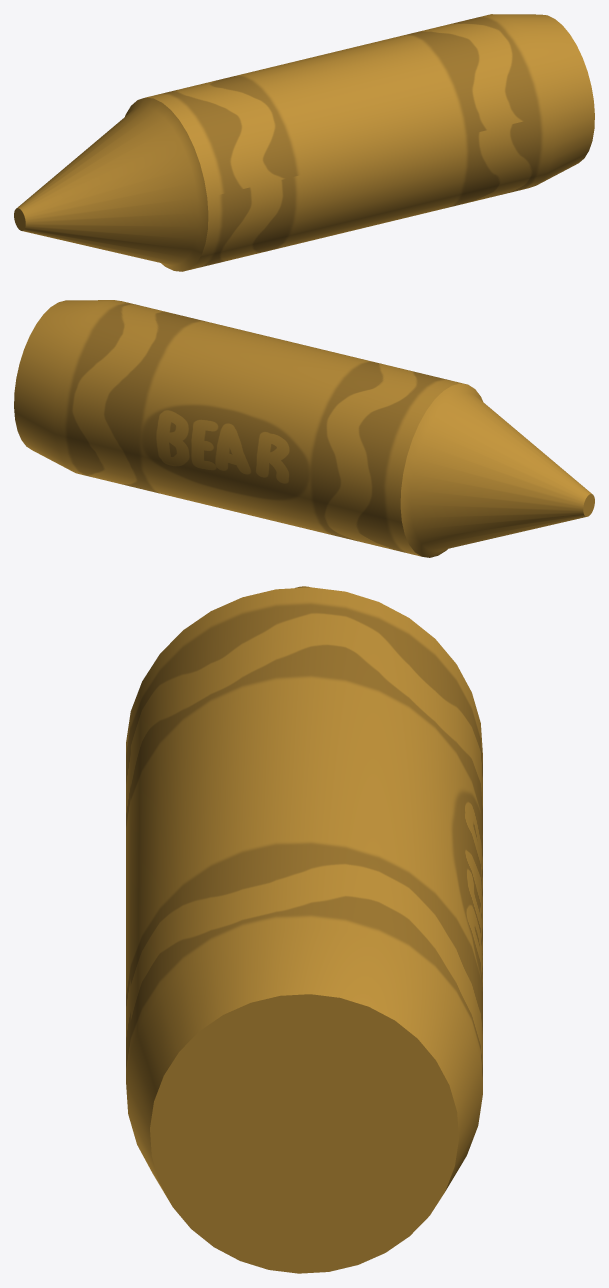
The model's file is crayon.fbx.
The picture shows the model from 3 angles, top to bottom: view 1: azimuth 30°, elevation 25°; view 2: azimuth 150°, elevation 25°; view 3: azimuth 270°, elevation 25°; orthographic projection. The views are drawn at different scales.
Visible parts, largest first — view 1: Cylinder; view 2: Cylinder; view 3: Cylinder.
Part boxes in pixels (box(x1,y1,x2,y2)): Cylinder: box(14, 14, 594, 271); Cylinder: box(14, 300, 594, 557); Cylinder: box(126, 586, 482, 1273).
Bounding box in the file's own units: 3.18 × 0.9171 × 0.9216.
Materials: 1 (1 with a texture image).
